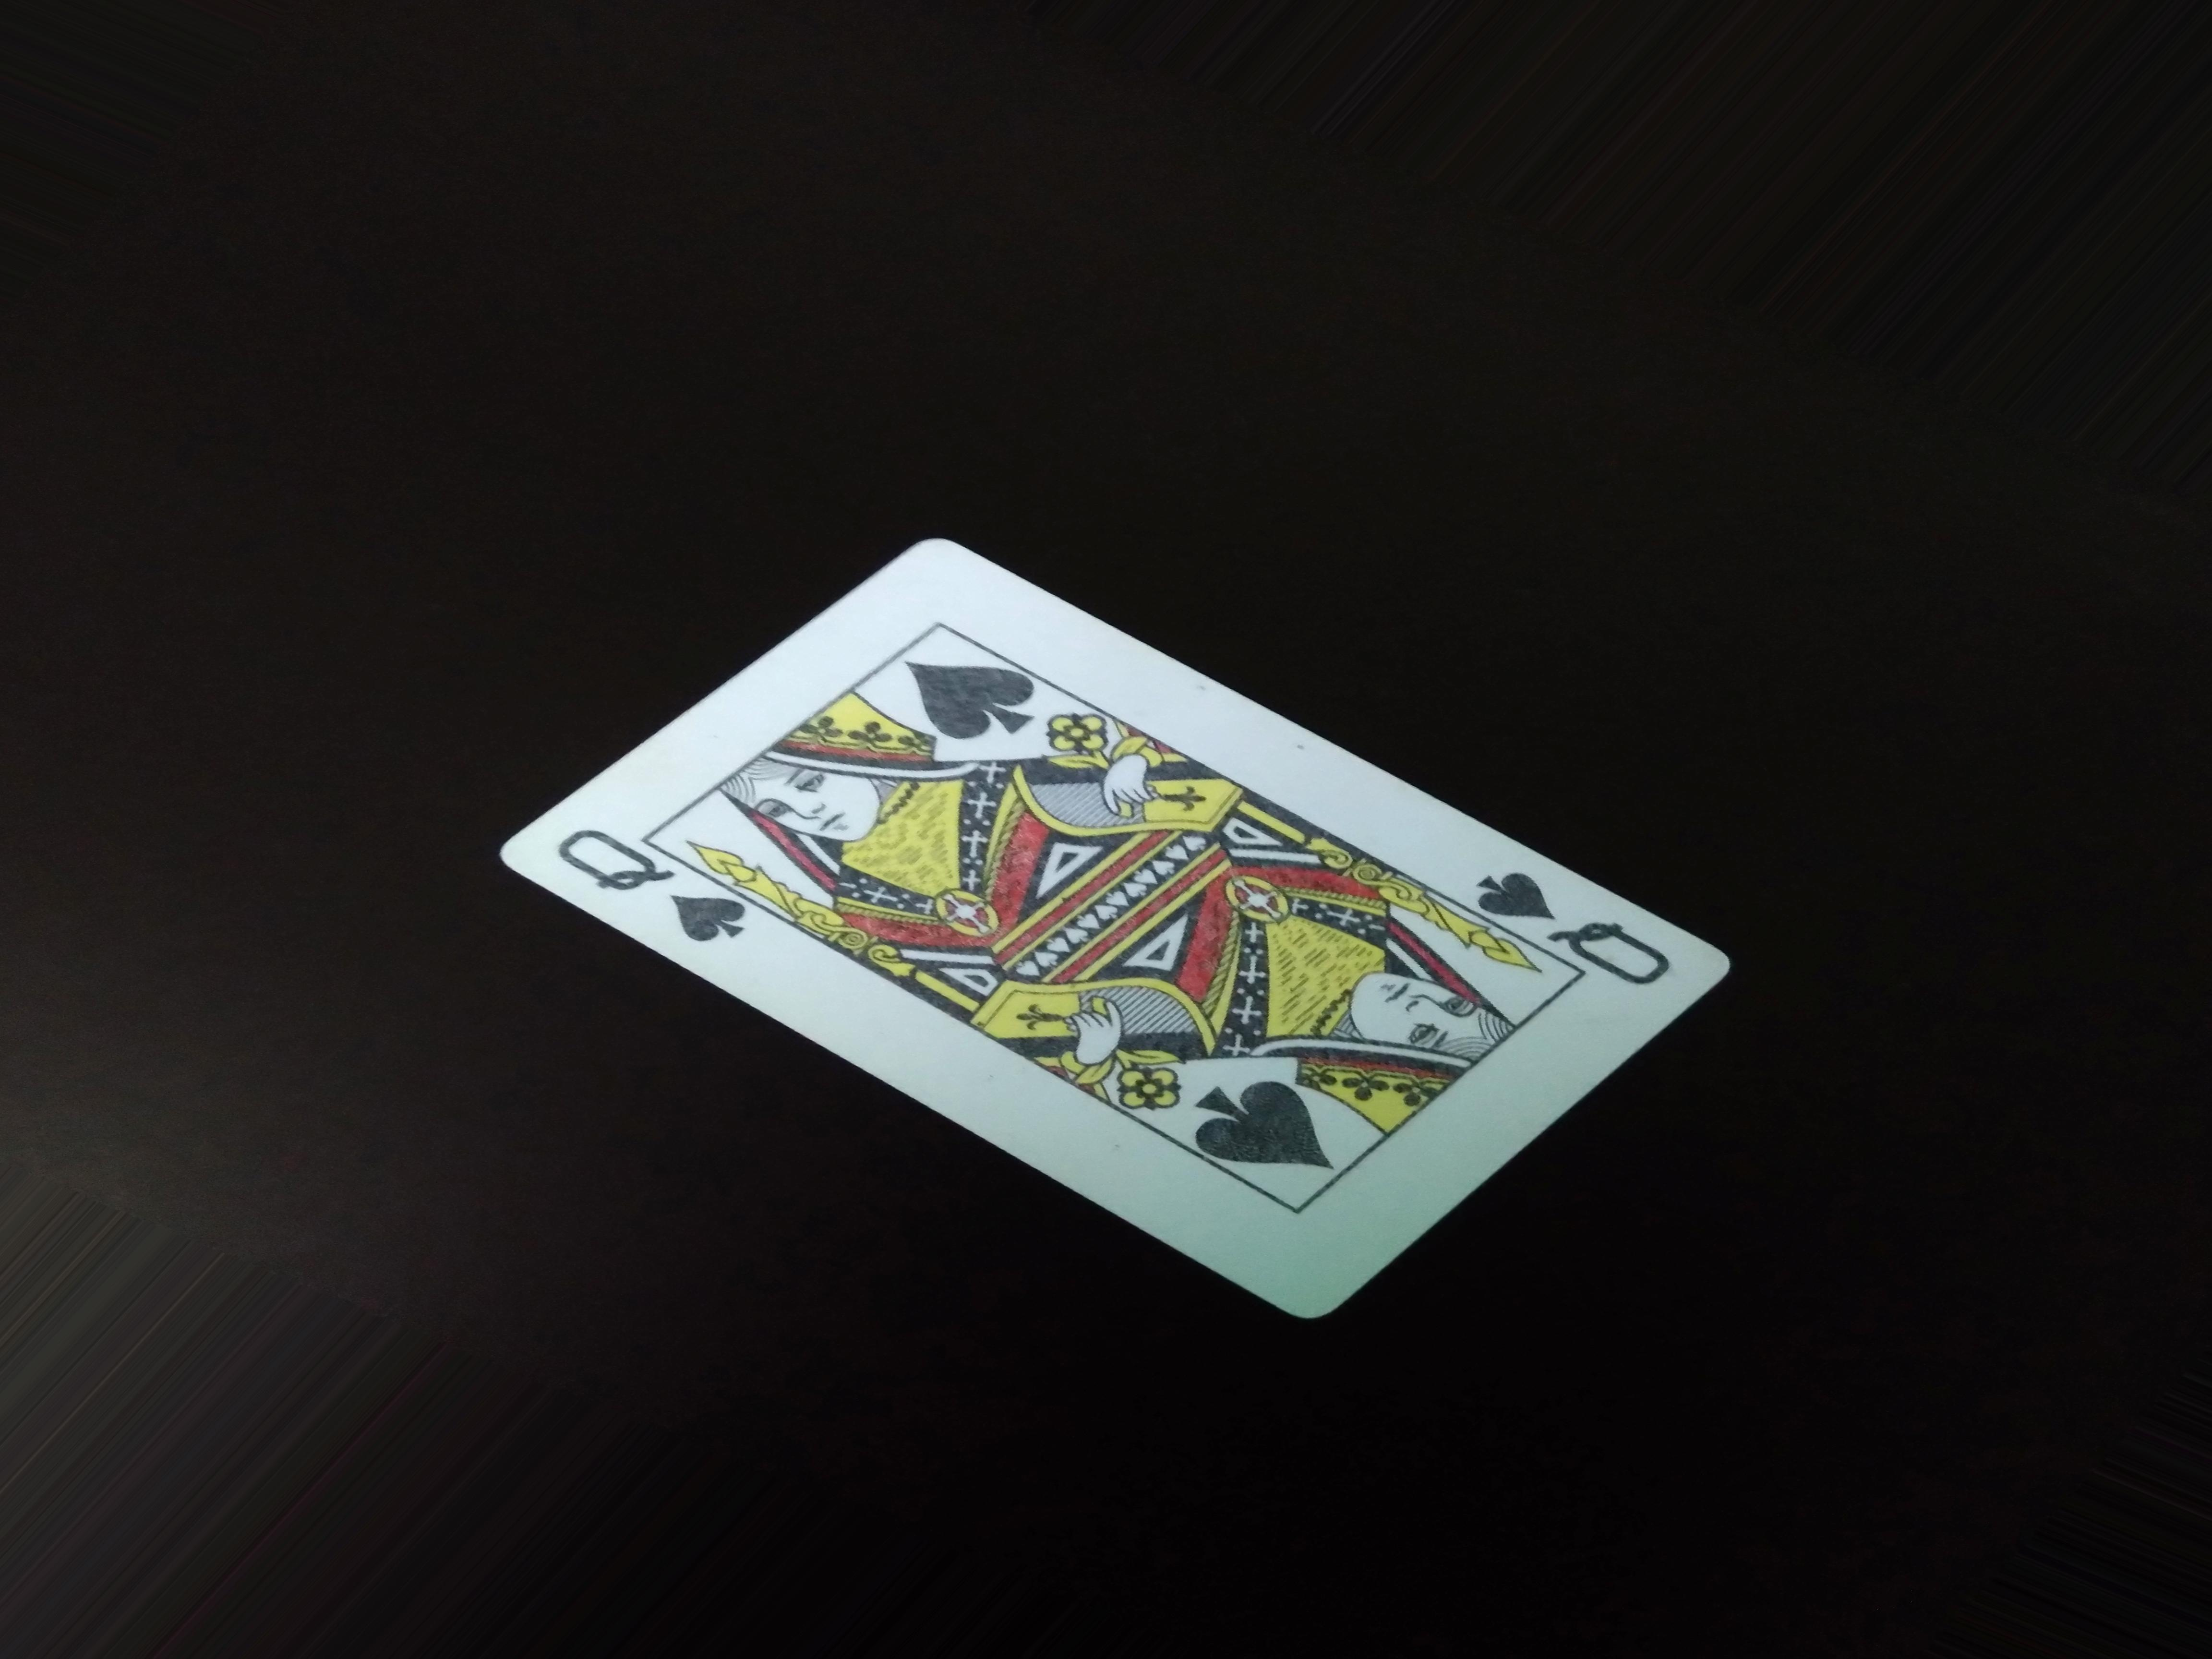QS: (559, 793, 751, 960)
